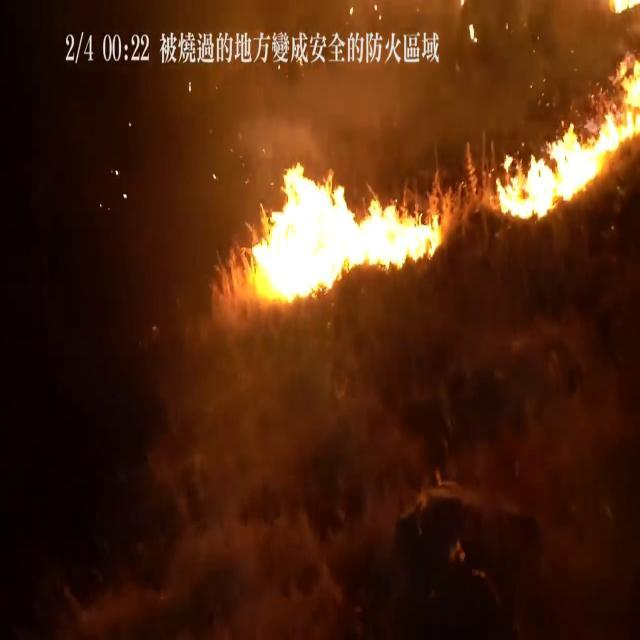Fire: (252, 162, 442, 304), (496, 59, 640, 220)
